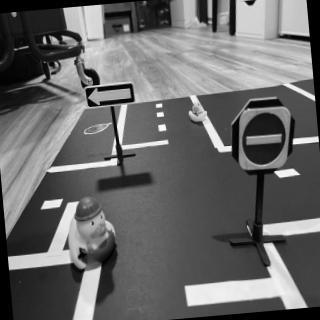duck_regular: (187, 99, 211, 126)
duck_specialty: (64, 197, 121, 277)
sign_noentry: (234, 107, 299, 174)
sign_oneway_left: (87, 83, 136, 110)
